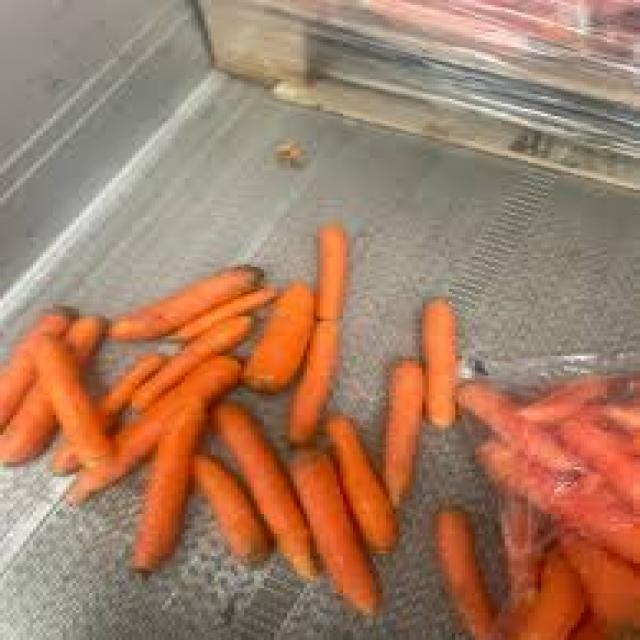Carrot: (388, 359, 424, 508)
